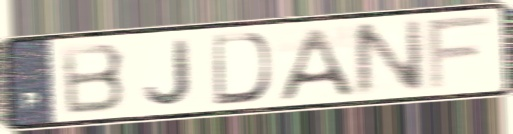A: (274, 25, 357, 103)
B: (57, 40, 129, 118)
D: (210, 30, 274, 107)
F: (424, 11, 497, 94)
J: (141, 36, 195, 108)
N: (347, 15, 428, 100)
